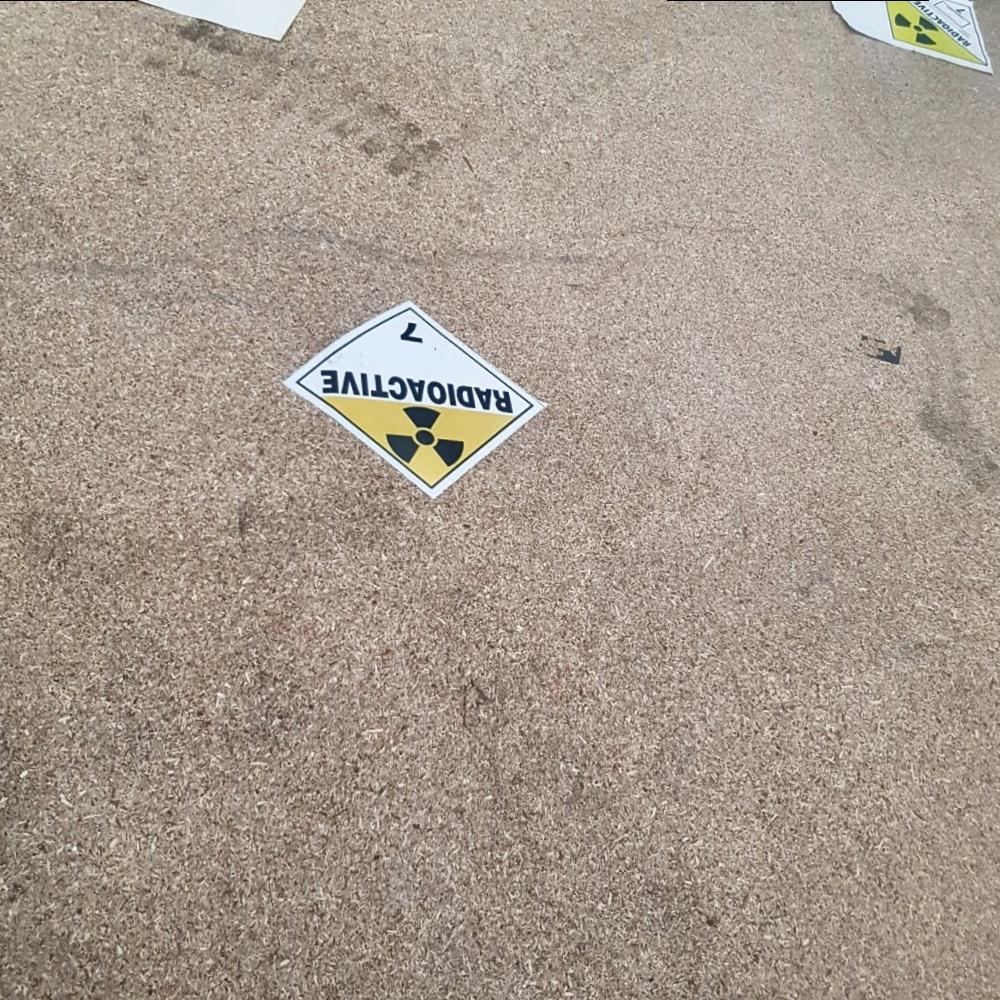radioactive: (287, 298, 545, 501)
